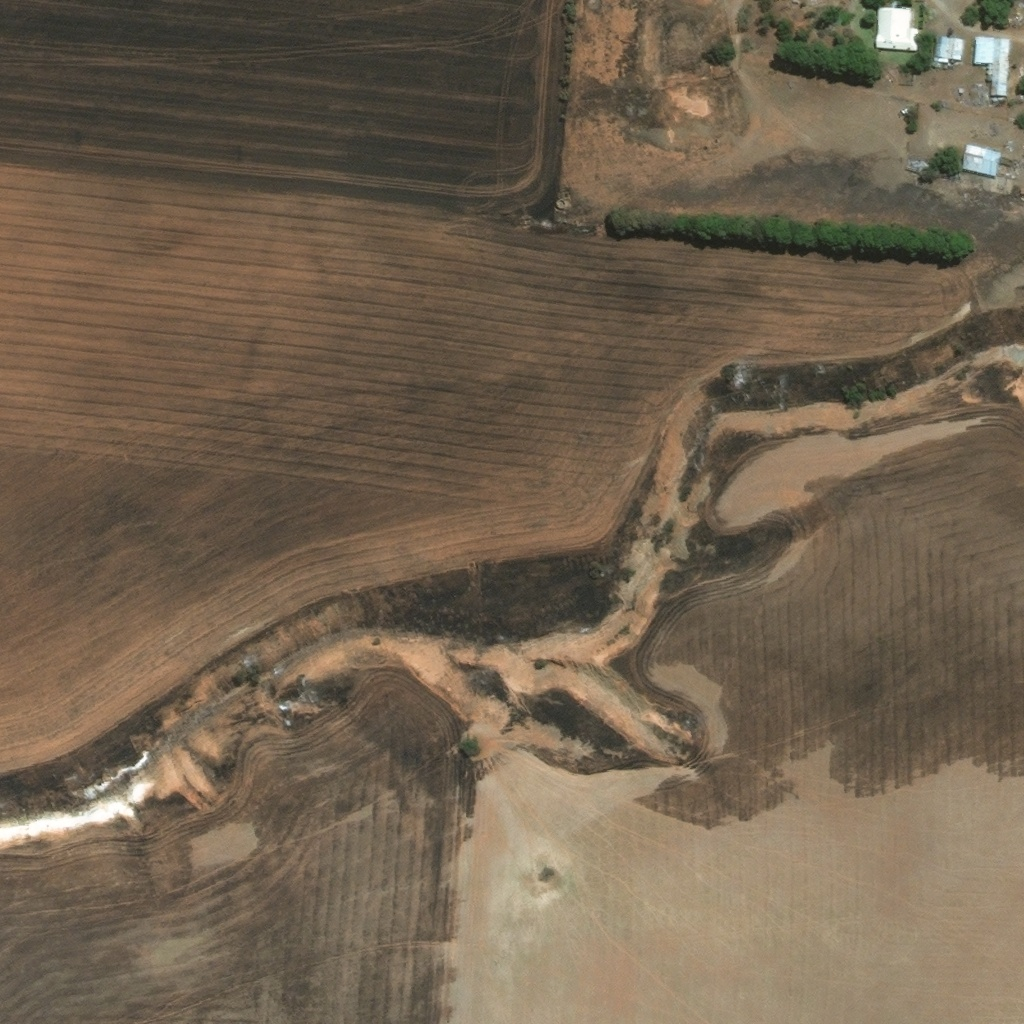0 no-damage: (875, 6, 918, 49), (963, 141, 1001, 173), (992, 35, 1010, 93), (933, 34, 963, 60), (975, 35, 994, 60), (986, 60, 993, 79), (934, 57, 947, 61), (959, 86, 963, 92)
1 minor-damage: (904, 159, 929, 174)
